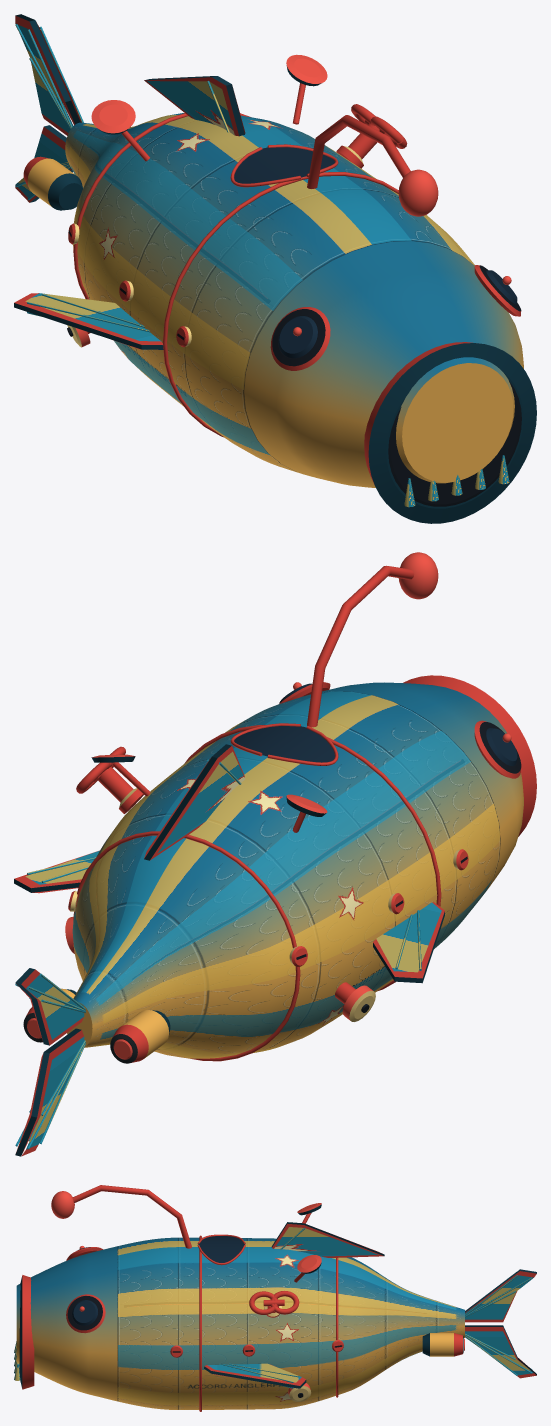
3 renders of one model, top to bottom at view 1: azimuth 30°, elevation 25°; view 2: azimuth 150°, elevation 25°; view 3: azimuth 270°, elevation 25°, orthographic. The views are drawn at different scales.
Parts seen in each view (by area): view 1: anglerfish_hull; view 2: anglerfish_hull; view 3: anglerfish_hull.
Part boxes in pixels (x1,y1,x2,y2): anglerfish_hull: [14, 14, 536, 523]; anglerfish_hull: [14, 552, 536, 1156]; anglerfish_hull: [14, 1185, 536, 1411].
Bounding box in the file's own units: 9.08 × 7.79 × 17.
Materials: 1 (1 with a texture image).
